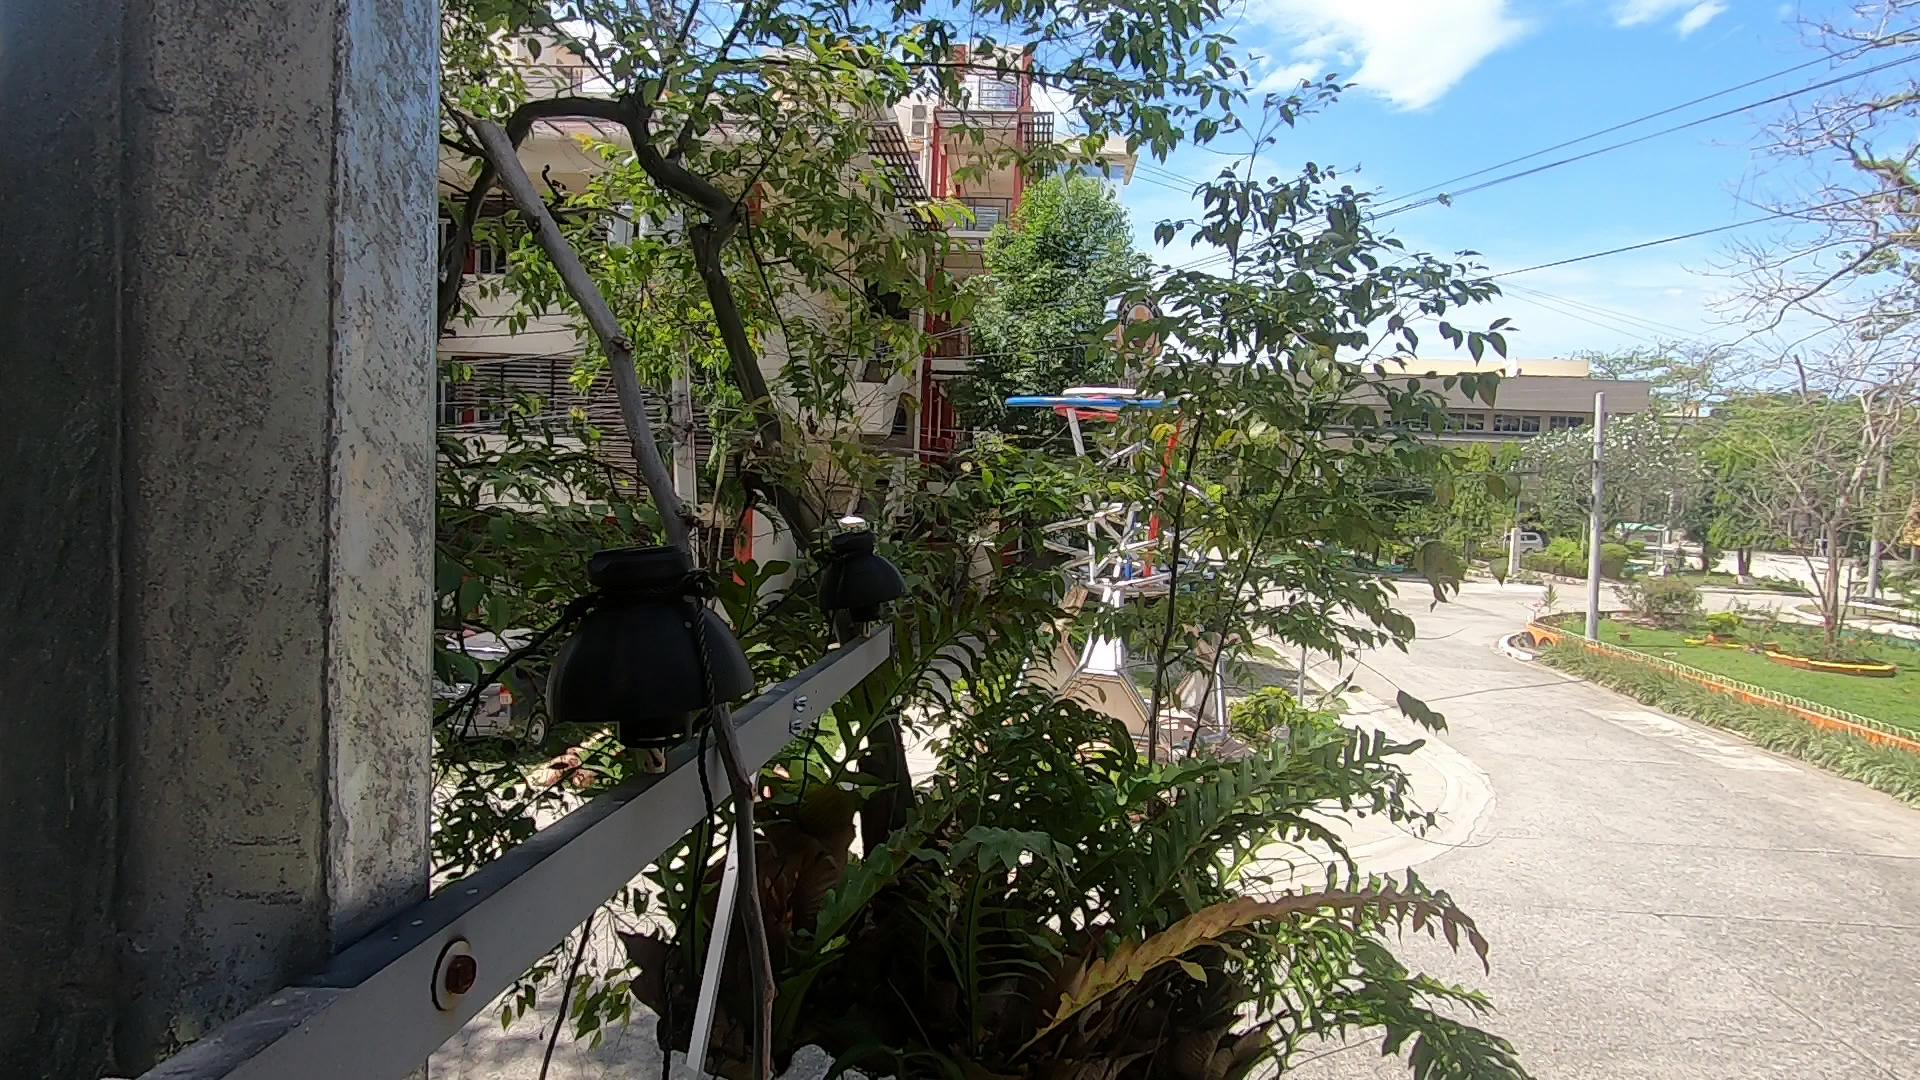tree branch: (440, 84, 860, 1069)
